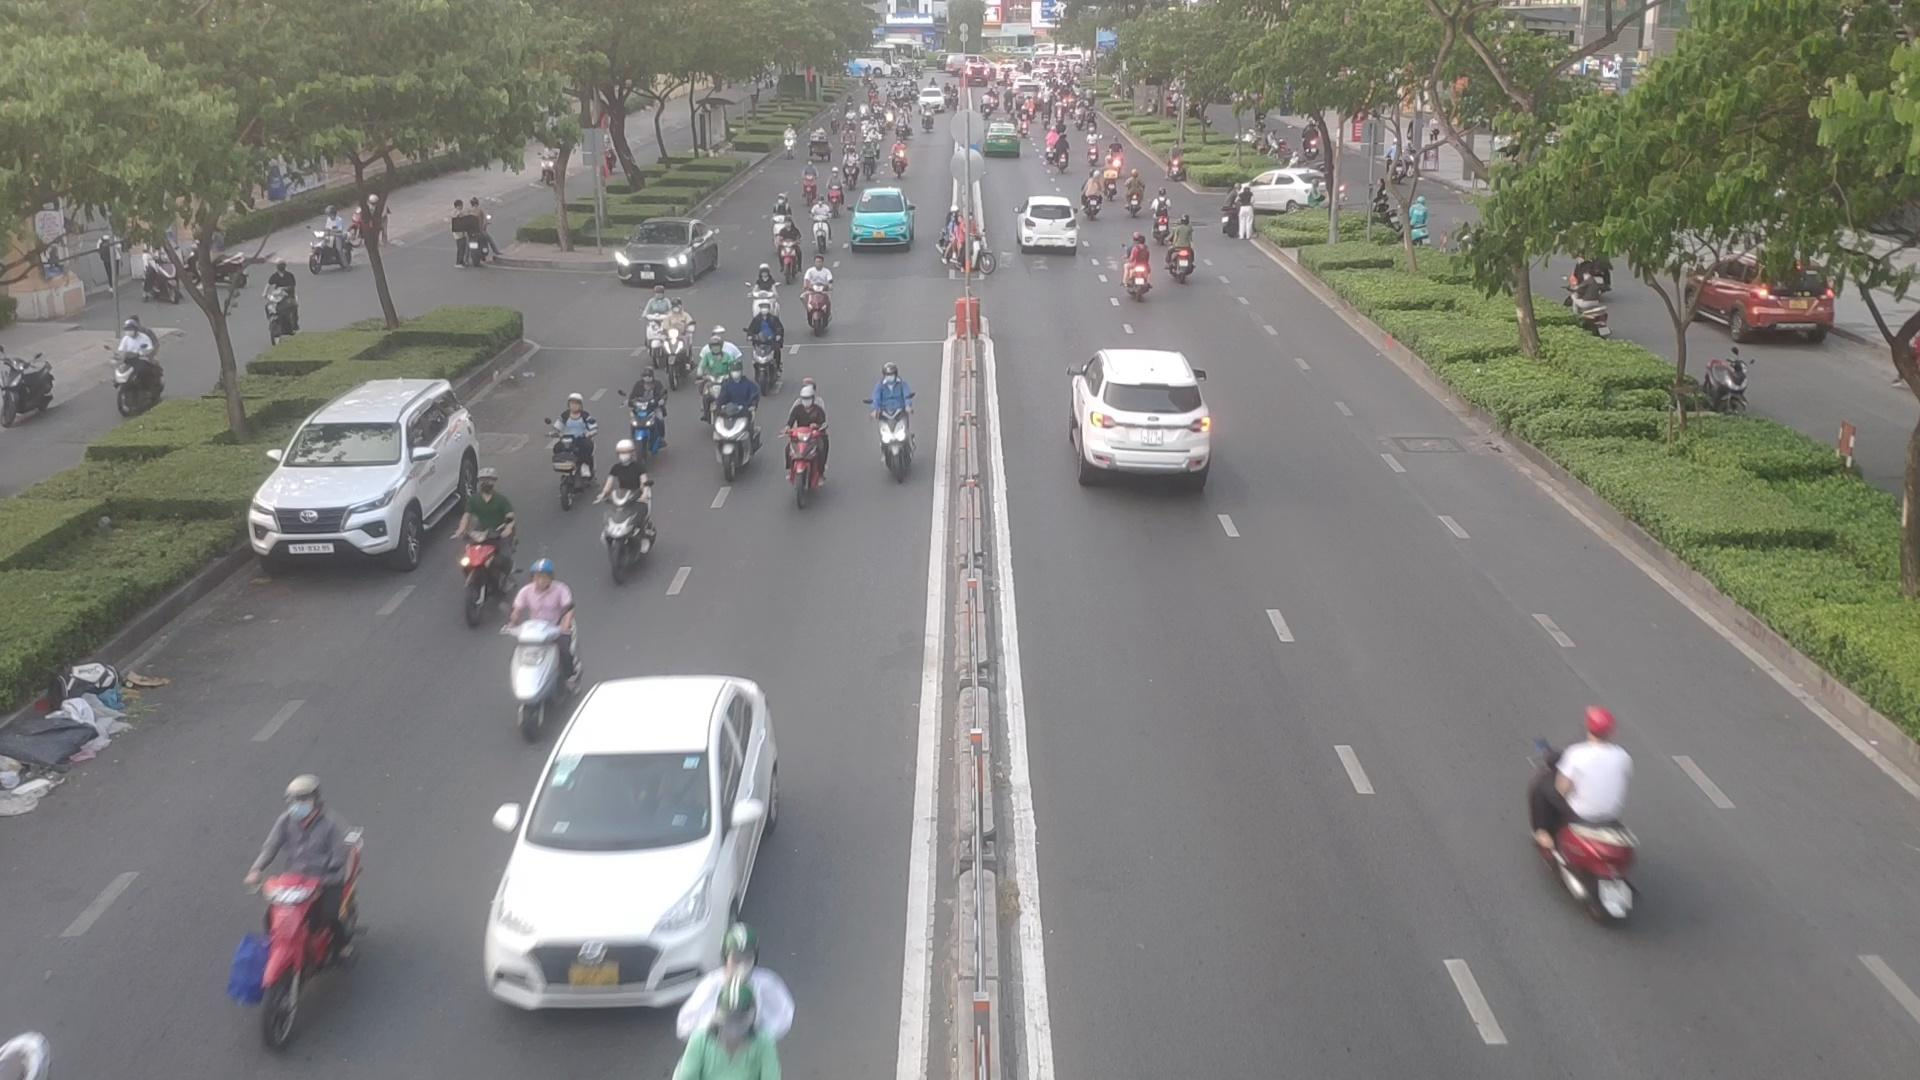car: (481, 675, 782, 1029), (251, 381, 491, 575), (1072, 349, 1212, 477), (612, 219, 721, 290), (847, 189, 913, 255), (1015, 195, 1081, 252)
motorbike: (208, 779, 371, 1039), (1505, 713, 1659, 926), (595, 431, 666, 584), (510, 607, 583, 741), (533, 386, 592, 510), (785, 386, 843, 504), (715, 369, 773, 485), (868, 360, 928, 469), (465, 485, 514, 615), (746, 295, 793, 386), (622, 352, 662, 458), (700, 327, 742, 421), (938, 211, 1002, 272), (638, 286, 666, 369), (806, 258, 833, 330), (752, 261, 779, 328), (762, 187, 793, 248), (665, 307, 688, 382), (775, 214, 804, 266), (806, 198, 828, 252), (1125, 233, 1134, 262)
